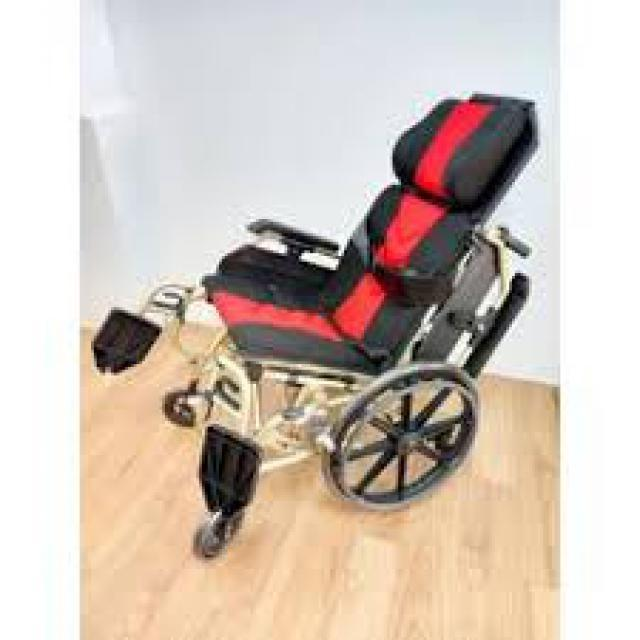wheelchair: (77, 83, 552, 566)
